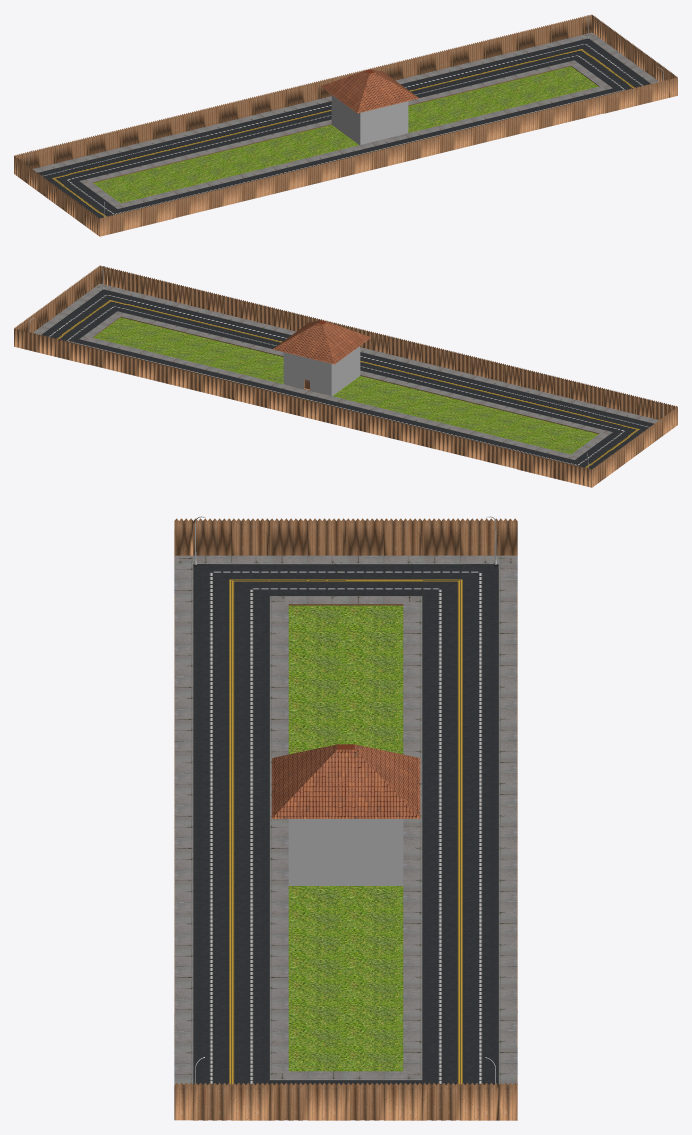
Rendered from lighting_test.obj.
3 renders of one model, top to bottom at view 1: azimuth 30°, elevation 25°; view 2: azimuth 150°, elevation 25°; view 3: azimuth 270°, elevation 25°, orthographic. The views are drawn at different scales.
Parts seen in each view (by area): view 1: ROAD_TILE_Plane.005_ROAD_TILE_Plane.004; view 2: ROAD_TILE_Plane.005_ROAD_TILE_Plane.004; view 3: ROAD_TILE_Plane.005_ROAD_TILE_Plane.004.
Boxes of the visible parts, x1,y1,x2,y2 form: ROAD_TILE_Plane.005_ROAD_TILE_Plane.004: [14, 14, 677, 236]; ROAD_TILE_Plane.005_ROAD_TILE_Plane.004: [14, 265, 677, 487]; ROAD_TILE_Plane.005_ROAD_TILE_Plane.004: [174, 518, 517, 1120].
Size of the model in its own units: 350 by 33.44 by 90.07.
